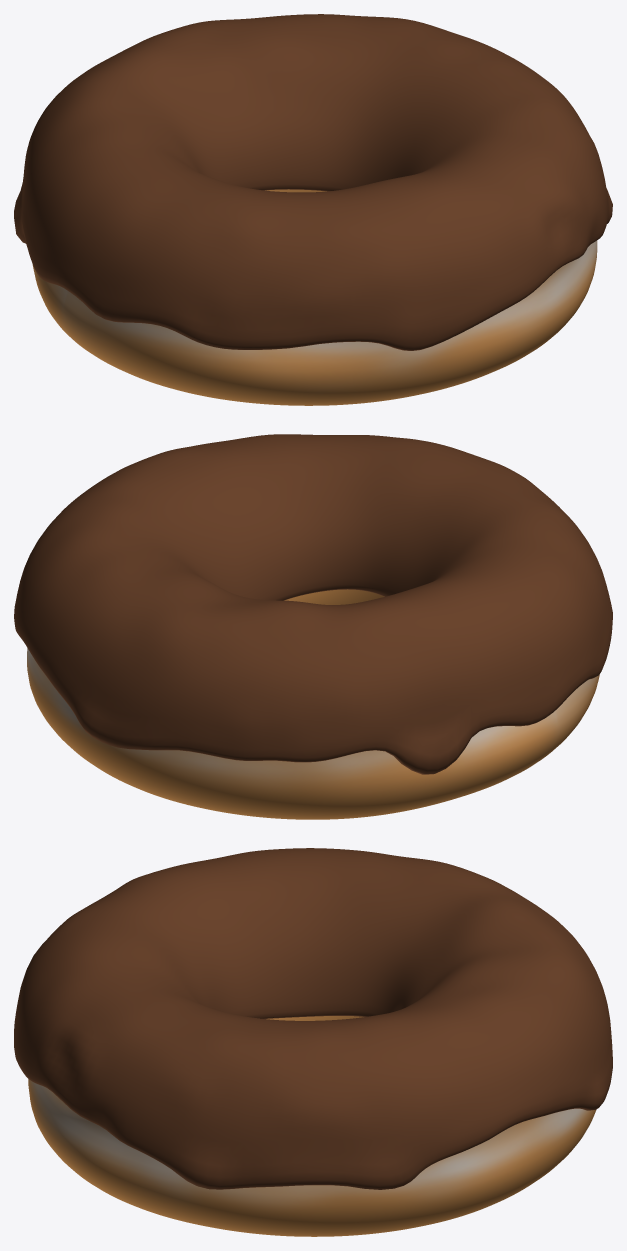
The model's file is donut1111.glb.
The picture shows the model from 3 angles, top to bottom: view 1: azimuth 30°, elevation 25°; view 2: azimuth 150°, elevation 25°; view 3: azimuth 270°, elevation 25°; orthographic projection.
Visible parts, largest first — view 1: Torus.001, Torus; view 2: Torus.001, Torus; view 3: Torus.001, Torus.
Part boxes in pixels (x1,y1,x2,y2): Torus.001: (14, 14, 612, 350); Torus: (32, 189, 597, 405); Torus.001: (14, 434, 612, 774); Torus: (27, 589, 599, 819); Torus.001: (14, 848, 612, 1189); Torus: (28, 1016, 596, 1236).
Size of the model in its own units: 0.0978 by 0.038 by 0.0984.
2 materials, 1 textured.
